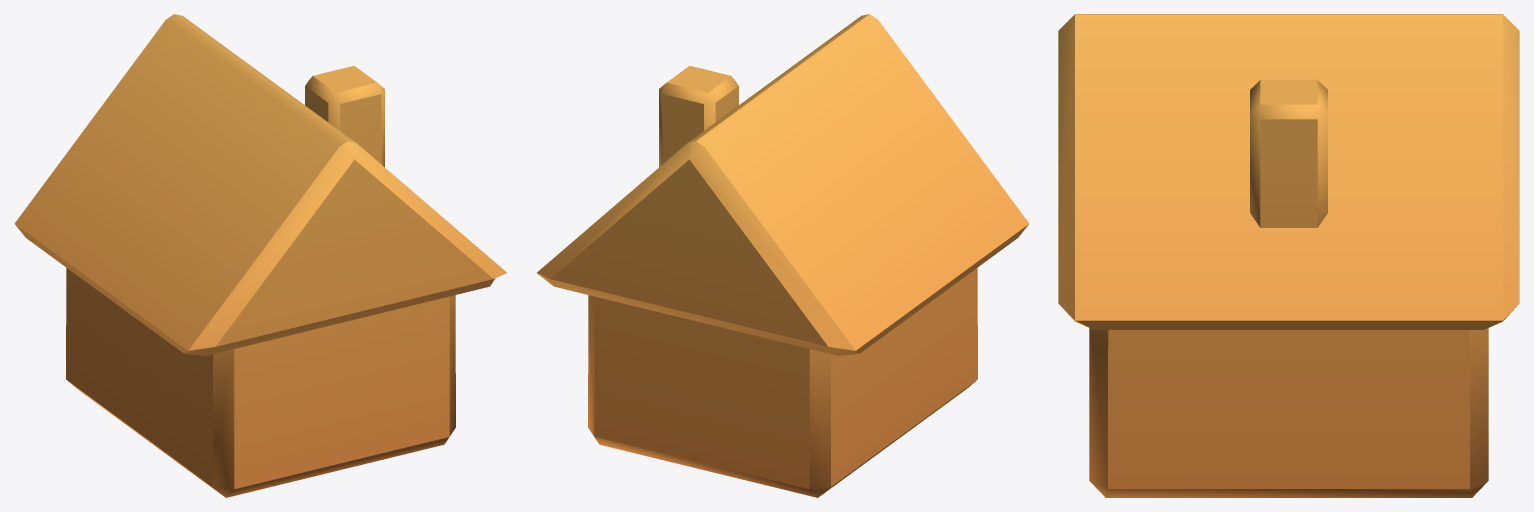
The model's file is building_yellow.obj.
The picture shows the model from 3 angles, left to right: view 1: azimuth 30°, elevation 25°; view 2: azimuth 150°, elevation 25°; view 3: azimuth 270°, elevation 25°; orthographic projection. The views are drawn at different scales.
Parts seen in each view (by area): view 1: building_yellow; view 2: building_yellow; view 3: building_yellow.
Part boxes in pixels (box(x1,y1,x2,y2)): building_yellow: box(14, 14, 506, 497); building_yellow: box(537, 14, 1029, 497); building_yellow: box(1058, 14, 1519, 497).
Size of the model in its own units: 0.9847 by 1 by 1.
1 material, 1 textured.
